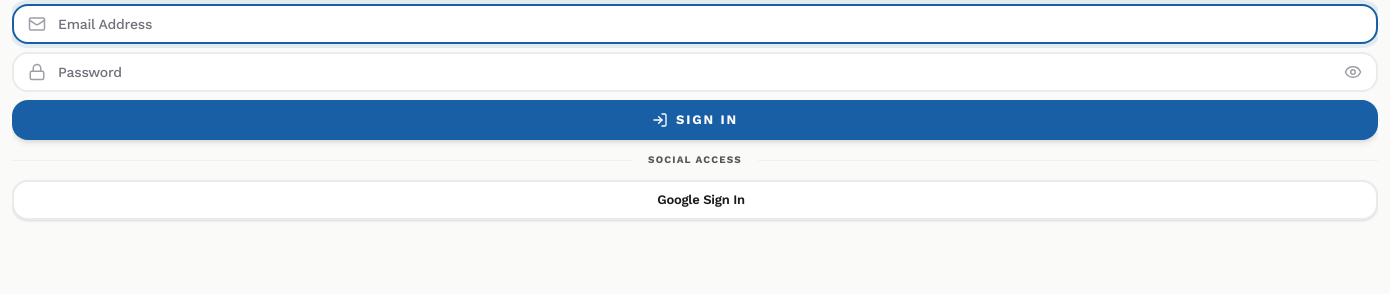
Test: SignIn Component › handles unexpected errors during signIn
In the field labelled "Email Address": [695, 24] box [12,4,1378,44], type "test@example.com"
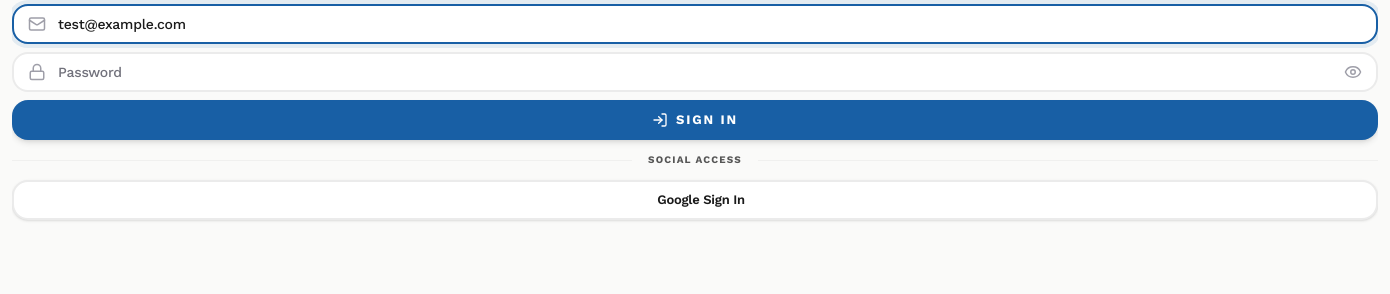
In the password field labelled "Password": [695, 72] box [12,52,1378,92], type "pass"
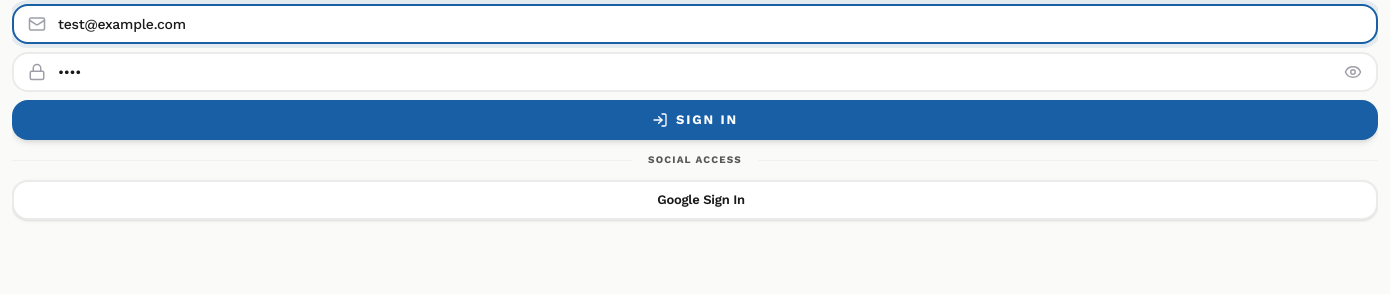
Click the button "Sign In": [695, 120] box [12,100,1378,140]
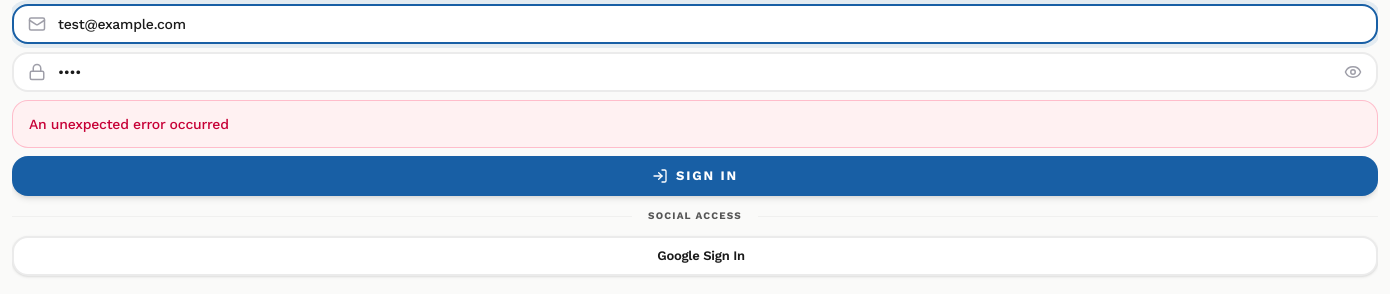
Check: the text "An unexpected error occurred" is shown, box [12,100,1378,148]
